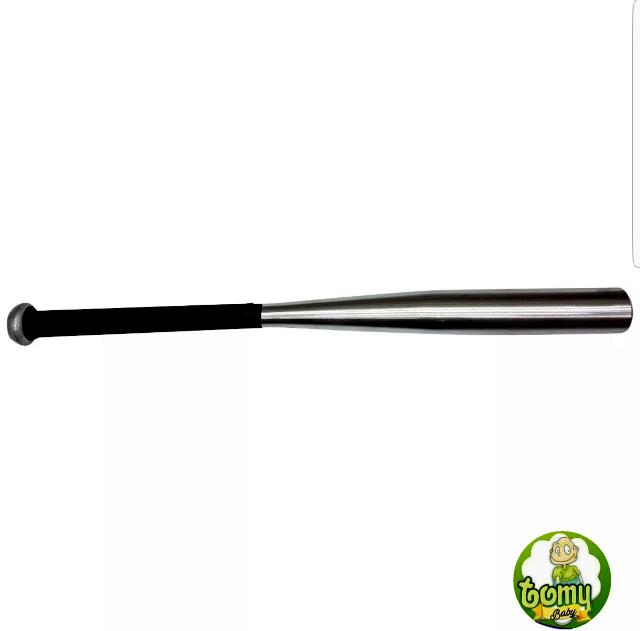baseball bat: (0, 244, 640, 348)
